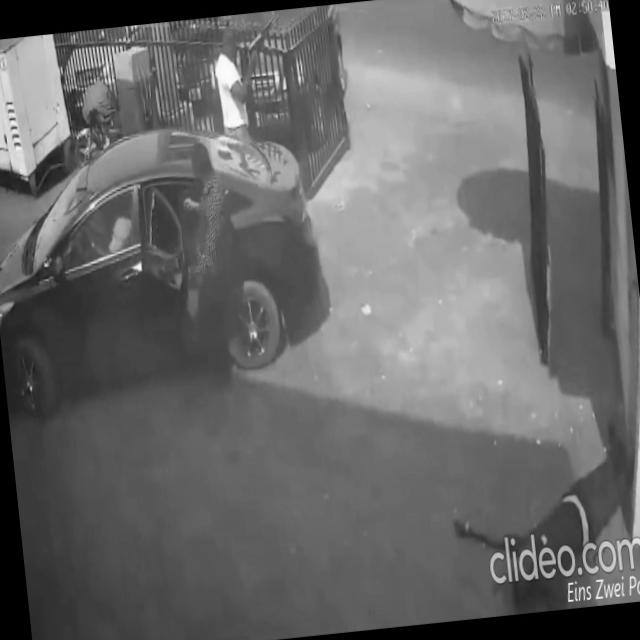gun: (243, 10, 286, 70)
person: (441, 411, 640, 619), (154, 134, 252, 382)
person with a gun: (209, 9, 294, 146)
